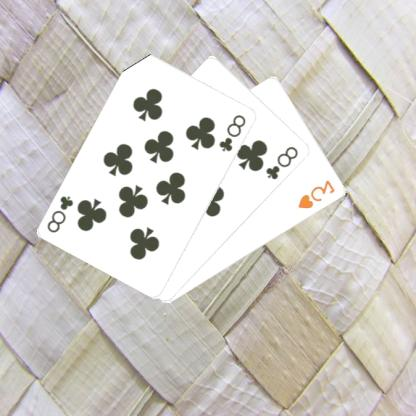3H: (297, 177, 339, 211)
8C: (265, 143, 302, 182), (46, 192, 77, 235), (218, 111, 249, 153)
